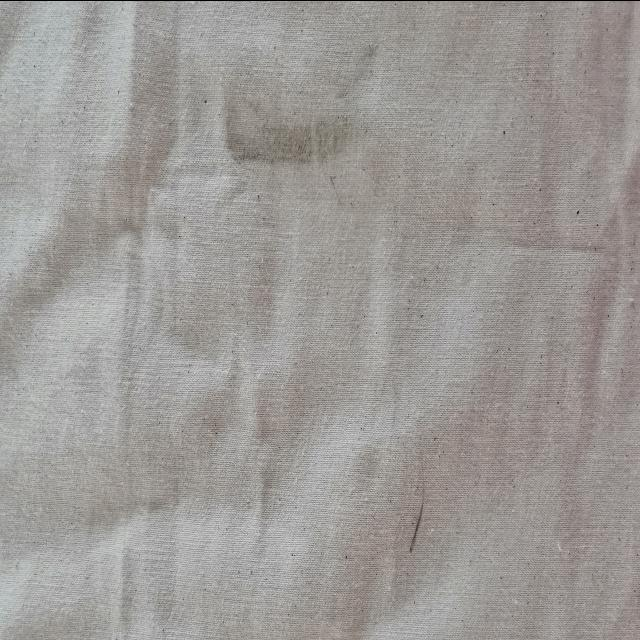taaaches: (221, 84, 371, 170), (406, 453, 428, 559), (349, 30, 382, 90), (326, 174, 348, 217)
